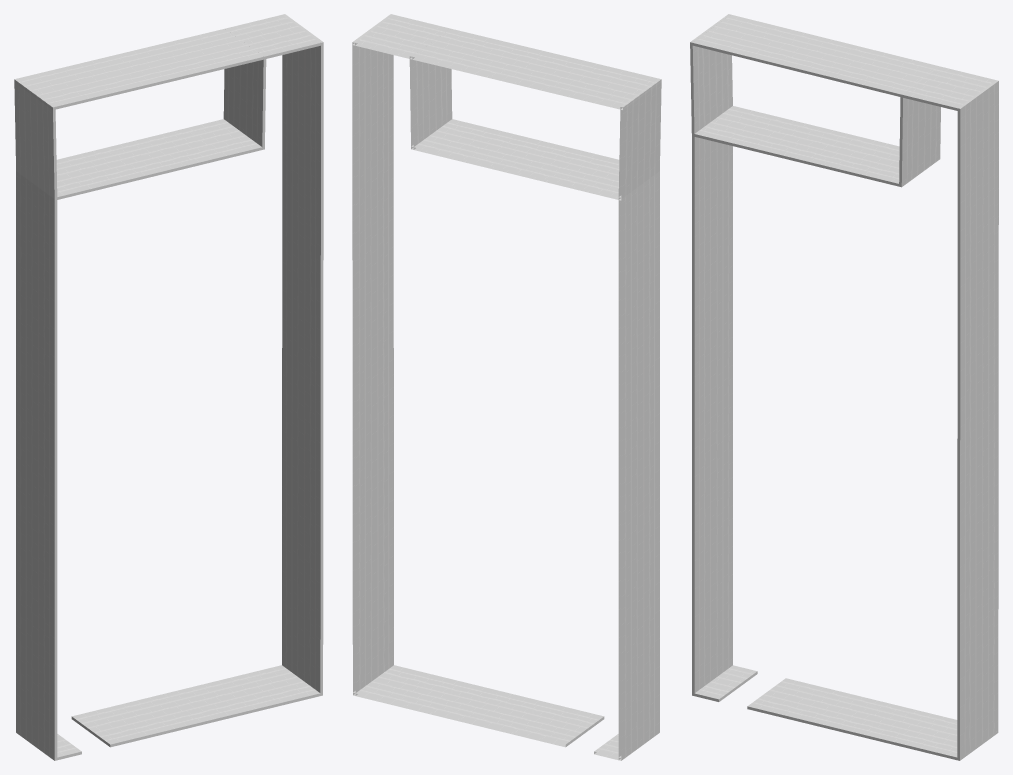
File: wall_1.obj
The picture shows the model from 3 angles, left to right: view 1: azimuth 30°, elevation 25°; view 2: azimuth 150°, elevation 25°; view 3: azimuth 330°, elevation 25°; orthographic projection.
Parts seen in each view (by area): view 1: walls; view 2: walls; view 3: walls.
Boxes of the visible parts, x1,y1,x2,y2 form: walls: [14, 14, 323, 760]; walls: [352, 14, 661, 760]; walls: [690, 14, 998, 760].
Size of the model in its own units: 10.14 by 23.39 by 2.5.
Materials: 1 (1 with a texture image).
